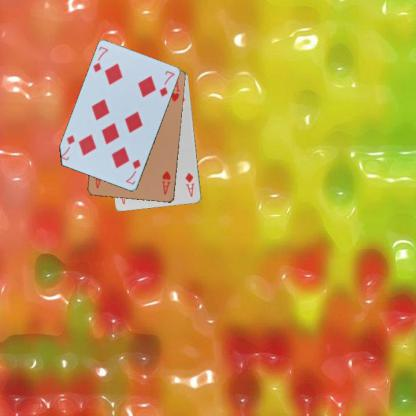7d: (90, 44, 110, 74), (123, 157, 142, 186)
Ad: (182, 171, 196, 198)
Ah: (160, 169, 172, 196)
